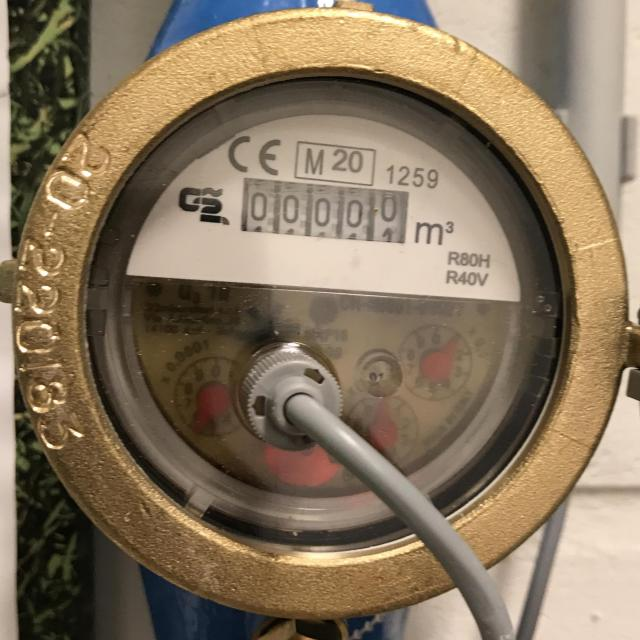gaz_meter: (122, 112, 522, 498)
indication: (241, 176, 407, 242)
